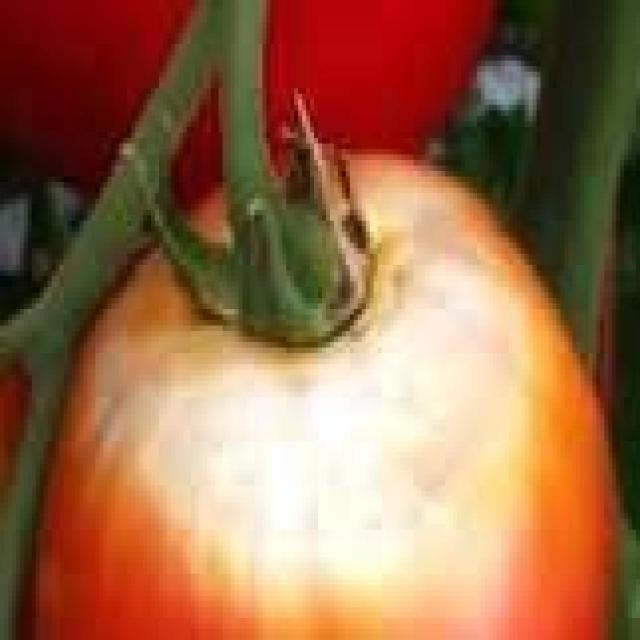Sunscald Fruit: (44, 145, 370, 418)
